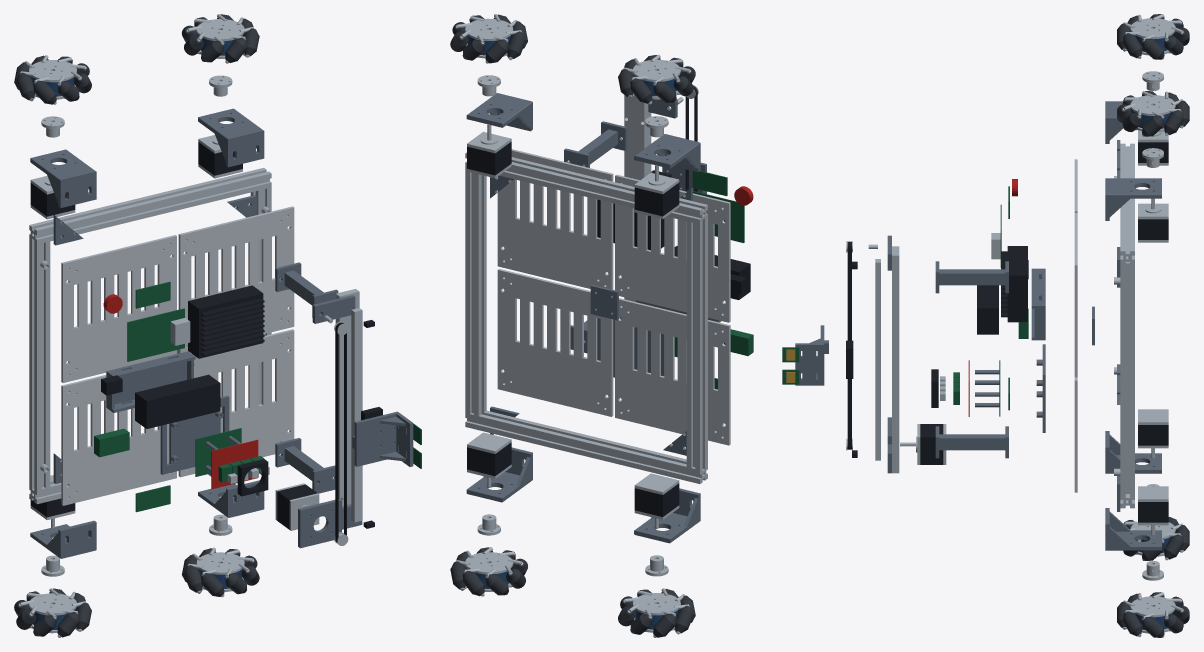
File: .rover_exploded.step.glb
3 renders of one model, left to right at view 1: azimuth 30°, elevation 25°; view 2: azimuth 150°, elevation 25°; view 3: azimuth 270°, elevation 25°, orthographic. The views are drawn at different scales.
Parts seen in each view (by area): view 1: o1.22, o1.24, o1.21, o1.23, o1.2, o1.3, o1.35, o1.74, o1.34, o1.36, o1.10, o1.18 (+27 smaller); view 2: o1.23, o1.21, o1.24, o1.22, o1.2, o1.4, o1.1, o1.3, o1.71, o1.14, o1.10, o1.18 (+23 smaller); view 3: o1.4, o1.71, o1.49, o1.18, o1.14, o1.3, o1.69, o1.70, o1.74, o1.72, o1.35, o1.6 (+11 smaller).
Boxes of the visible parts, <box> form: o1.22: <box>61,235,176,382</box>; o1.24: <box>178,206,294,353</box>; o1.21: <box>61,375,176,505</box>; o1.23: <box>178,329,294,477</box>; o1.2: <box>29,239,50,490</box>; o1.3: <box>29,168,271,244</box>; o1.35: <box>135,374,220,428</box>; o1.74: <box>352,411,413,466</box>; o1.34: <box>106,351,195,412</box>; o1.36: <box>160,395,229,474</box>; o1.10: <box>30,149,96,208</box>; o1.18: <box>198,108,264,167</box>; o1.23: <box>497,269,613,416</box>; o1.21: <box>615,298,730,445</box>; o1.24: <box>497,149,613,289</box>; o1.22: <box>615,174,730,322</box>; o1.2: <box>686,219,707,469</box>; o1.4: <box>465,167,486,415</box>; o1.1: <box>465,410,707,483</box>; o1.3: <box>465,152,707,224</box>; o1.71: <box>624,95,648,301</box>; o1.14: <box>466,447,532,502</box>; o1.10: <box>634,134,700,171</box>; o1.18: <box>466,93,532,131</box>; o1.4: <box>1120,261,1134,495</box>; o1.71: <box>892,246,899,473</box>; o1.49: <box>1007,246,1027,322</box>; o1.18: <box>1105,178,1161,220</box>; o1.14: <box>1105,508,1161,550</box>; o1.3: <box>1120,143,1134,264</box>; o1.69: <box>935,426,1008,458</box>; o1.70: <box>935,261,1008,293</box>; o1.74: <box>795,325,828,385</box>; o1.72: <box>875,259,880,460</box>; o1.35: <box>977,285,998,334</box>; o1.6: <box>1105,431,1161,473</box>.
Size of the model in its own units: 0.35 by 0.7918 by 0.5594.
